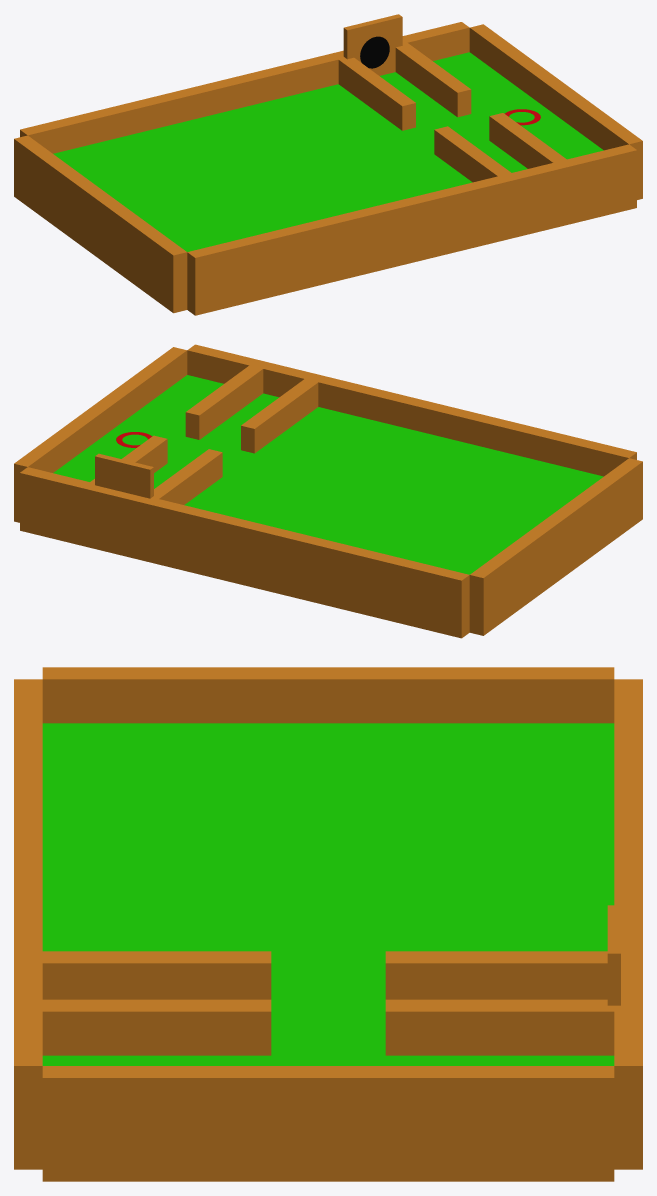
The model's file is Level#5.fbx.
3 views of the same model, one above another, from view 1: azimuth 30°, elevation 25°; view 2: azimuth 150°, elevation 25°; view 3: azimuth 270°, elevation 25° (orthographic). The views are drawn at different scales.
Visible parts, largest first — view 1: Cube, Cube.002, Cube.004, Cube.001, Cube.003, Cube.008, Cube.005, Cube.006, Cube.007, Cube.009, Sphere; view 2: Cube, Cube.001, Cube.002, Cube.004, Cube.003, Cube.006, Cube.007, Cube.008, Cube.009, Cube.005; view 3: Cube, Cube.003, Cube.004, Cube.002, Cube.001, Cube.006, Cube.005, Cube.007, Cube.008, Cube.009.
Boxes of the visible parts, left/top/right/bottom form: Cube: left=53, top=52, right=603, bottom=251; Cube.002: left=187, top=144, right=636, bottom=315; Cube.004: left=14, top=135, right=187, bottom=313; Cube.001: left=20, top=22, right=469, bottom=153; Cube.003: left=469, top=24, right=642, bottom=199; Cube.008: left=338, top=57, right=415, bottom=130; Cube.005: left=395, top=43, right=471, bottom=117; Cube.006: left=489, top=113, right=566, bottom=168; Cube.007: left=434, top=126, right=511, bottom=182; Cube.009: left=343, top=14, right=402, bottom=75; Sphere: left=360, top=36, right=389, bottom=68; Cube: left=53, top=375, right=603, bottom=574; Cube.001: left=20, top=467, right=469, bottom=638; Cube.002: left=187, top=344, right=636, bottom=476; Cube.004: left=469, top=458, right=642, bottom=635; Cube.003: left=14, top=347, right=187, bottom=522; Cube.006: left=185, top=365, right=263, bottom=439; Cube.007: left=241, top=379, right=318, bottom=453; Cube.008: left=152, top=449, right=222, bottom=504; Cube.009: left=95, top=453, right=153, bottom=498; Cube.005: left=90, top=435, right=167, bottom=483; Cube: left=42, top=723, right=614, bottom=1065; Cube.003: left=42, top=1066, right=614, bottom=1181; Cube.004: left=42, top=667, right=614, bottom=723; Cube.002: left=14, top=679, right=42, bottom=1169; Cube.001: left=614, top=679, right=642, bottom=1169; Cube.006: left=42, top=999, right=271, bottom=1055; Cube.005: left=385, top=999, right=614, bottom=1055; Cube.007: left=42, top=951, right=271, bottom=999; Cube.008: left=385, top=951, right=607, bottom=999; Cube.009: left=607, top=905, right=620, bottom=1005.
Bounding box in the file's own units: 1700 × 300 × 1100.
